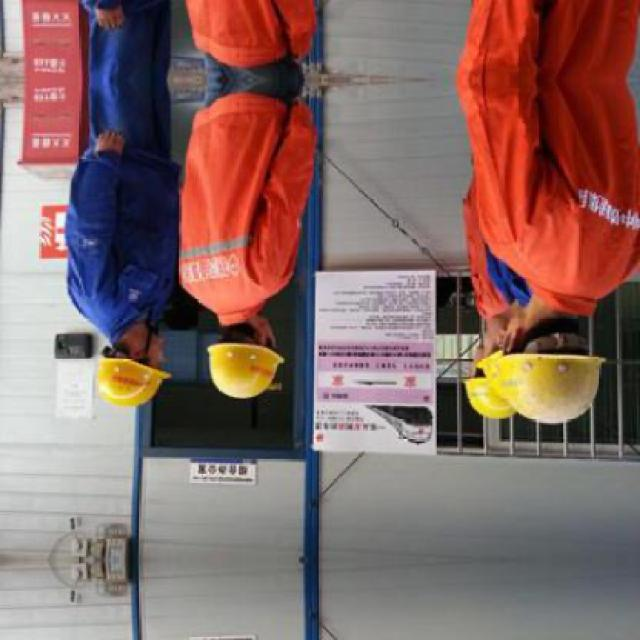con casco: (494, 297, 622, 422), (85, 297, 197, 412), (173, 306, 289, 404), (433, 330, 520, 434)
